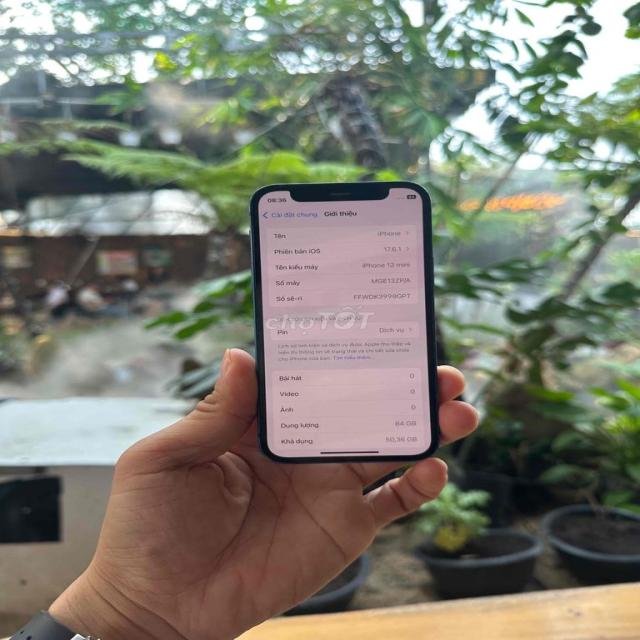gen_12_13: (242, 176, 452, 468)
